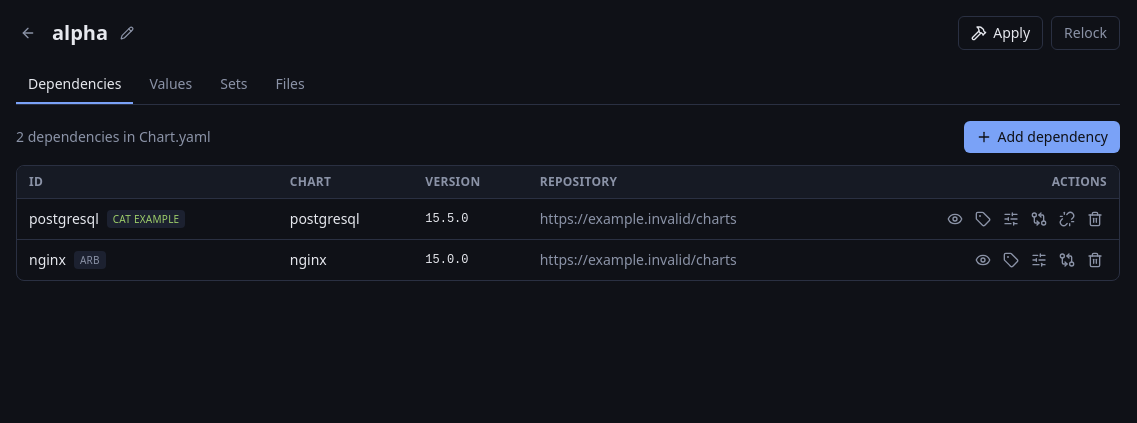
Scenario: Instance page › switches tabs through the URL
Check: the text "2 dependencies in Chart.yaml" is shown, box left=16, top=127, right=211, bottom=147
Click the tab "sets".
click(234, 85)  # box left=208, top=66, right=260, bottom=104
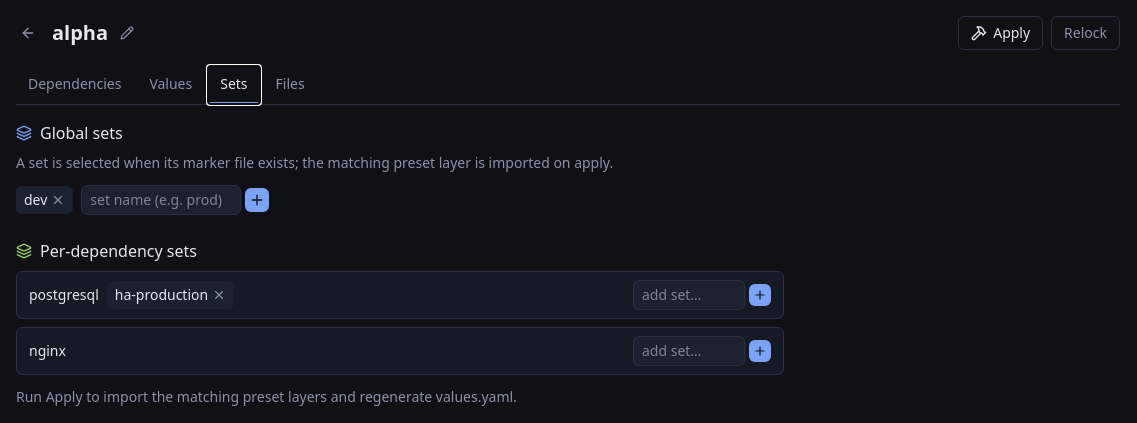
Check: the heading "Global sets" is shown, box left=16, top=122, right=123, bottom=144
